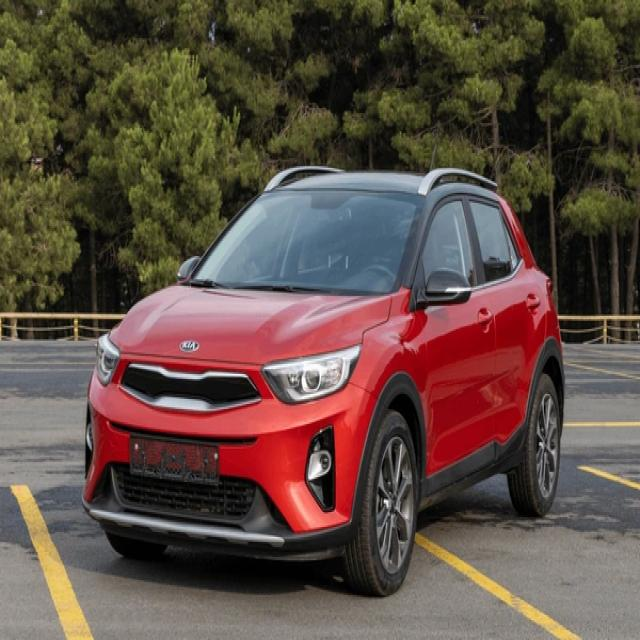kia: (178, 336, 200, 353)
